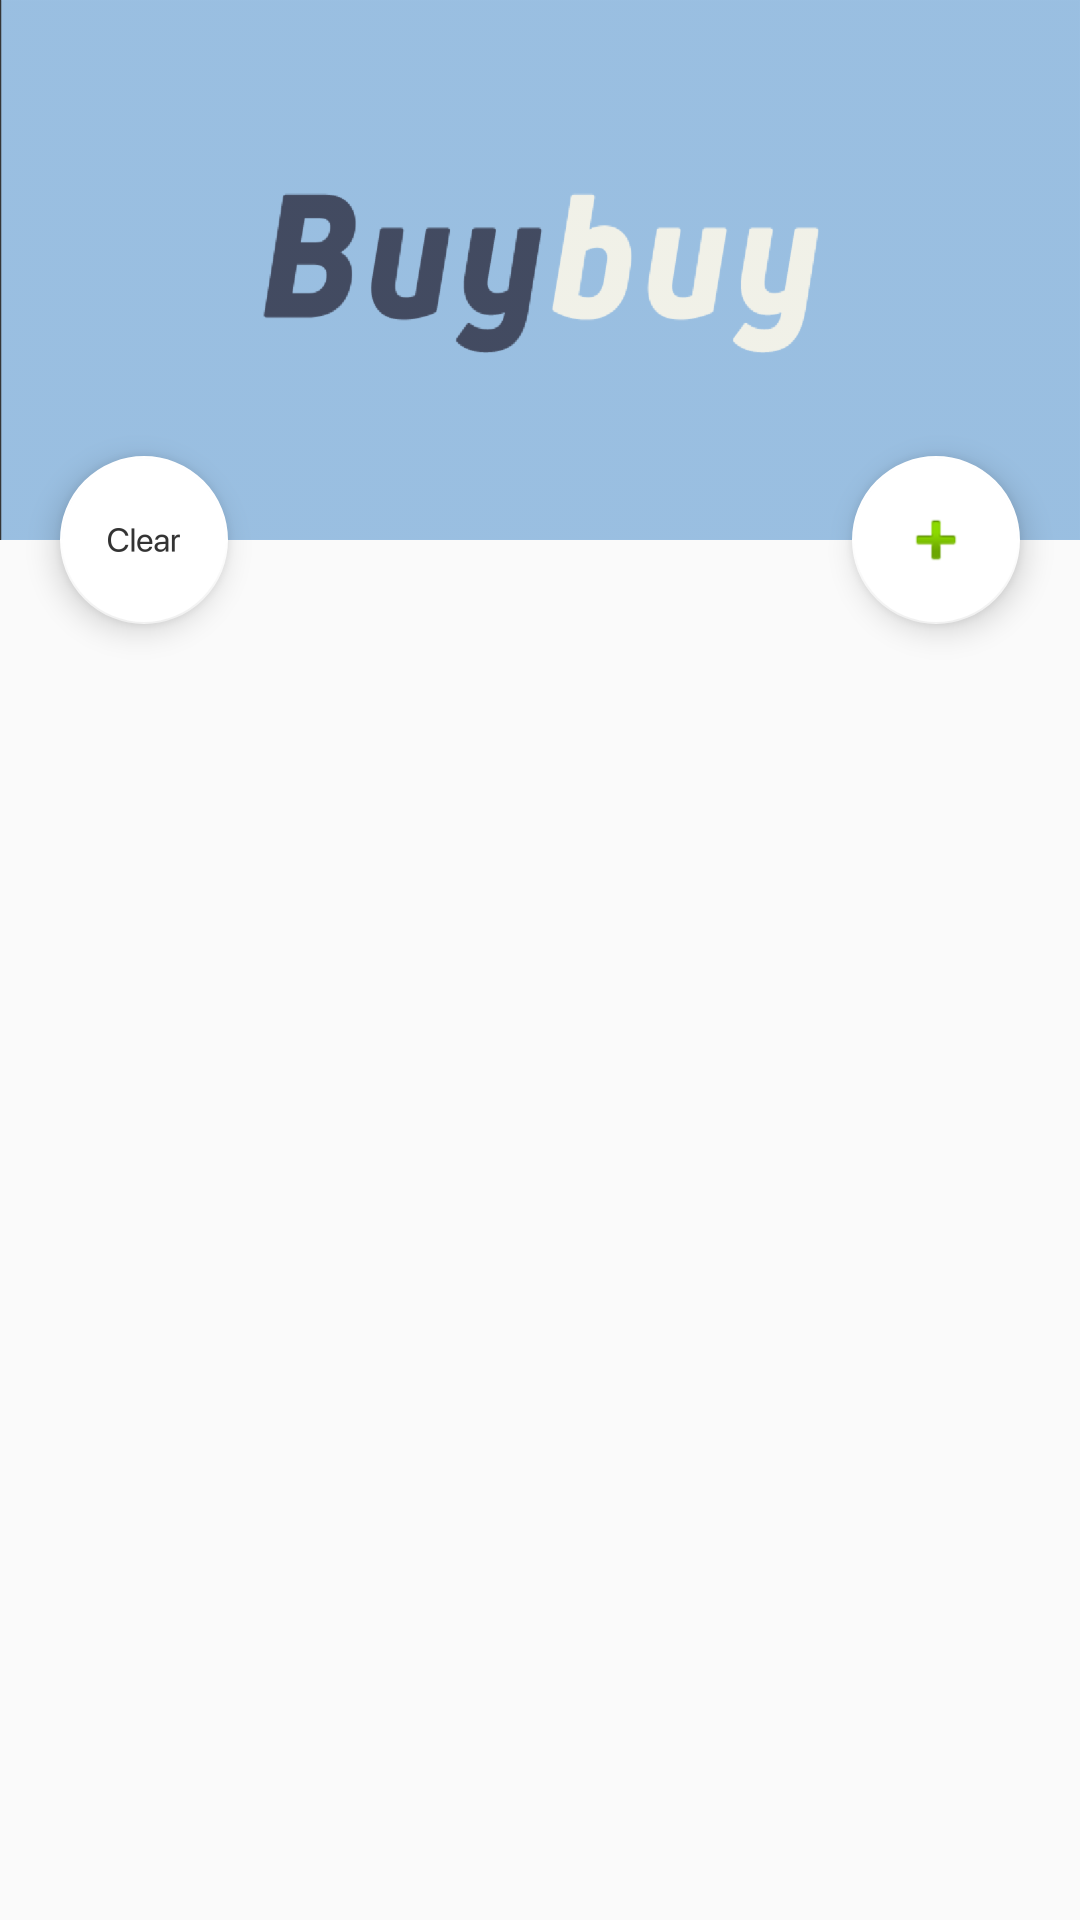

Where to tap for icons on this 1080px×1920px app screen, as [x,y]:
add: [936,540]
